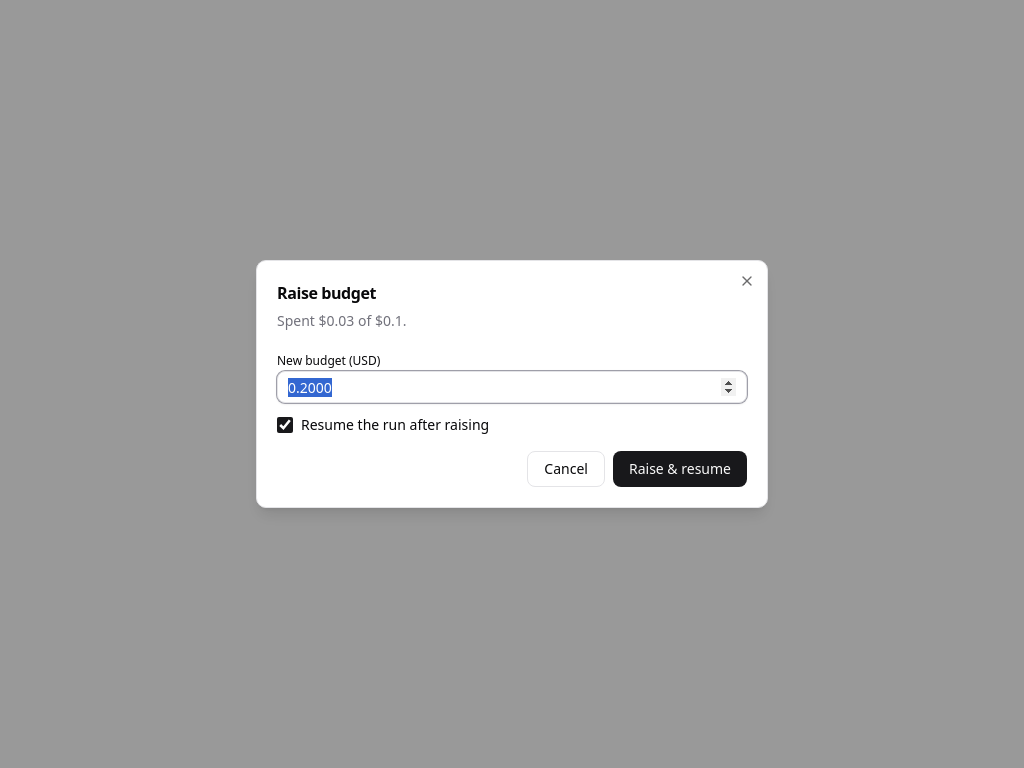
Test: RaiseBudgetDialog › warns when the budget is below current spend
Step 1. Replace the text in the number field with test id "budget-input" with "0.01" → {"x": 512, "y": 387}, box left=277, top=371, right=747, bottom=403
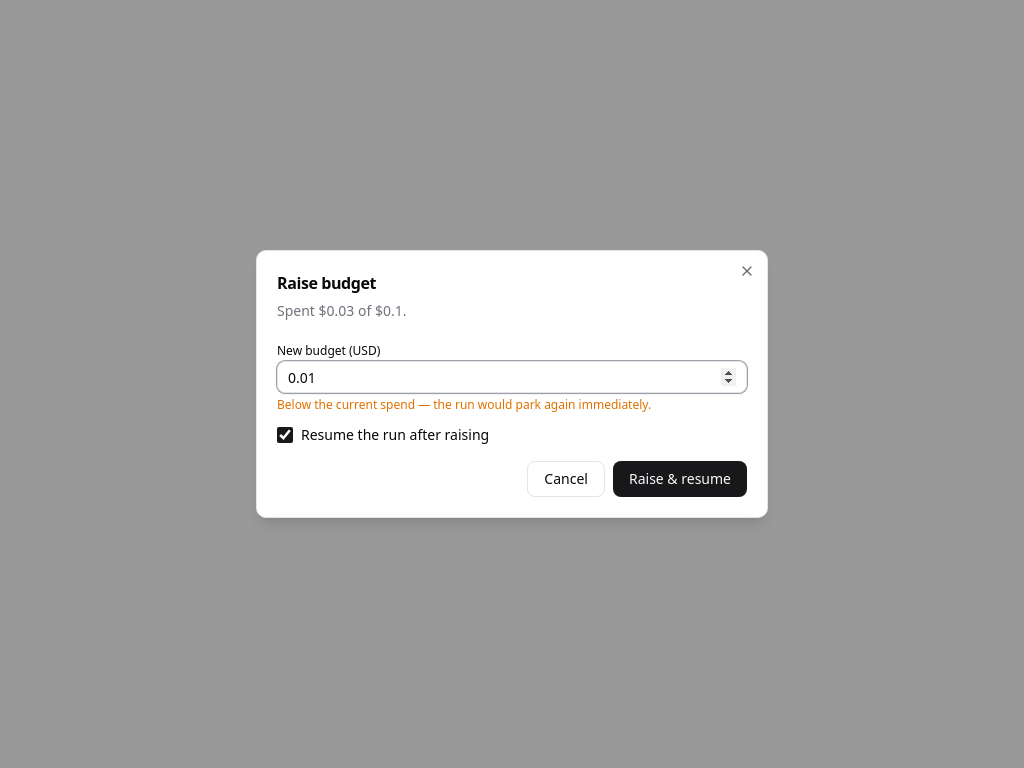
Expected: the text with test id "budget-below-spend" is shown, left=277, top=396, right=651, bottom=413
